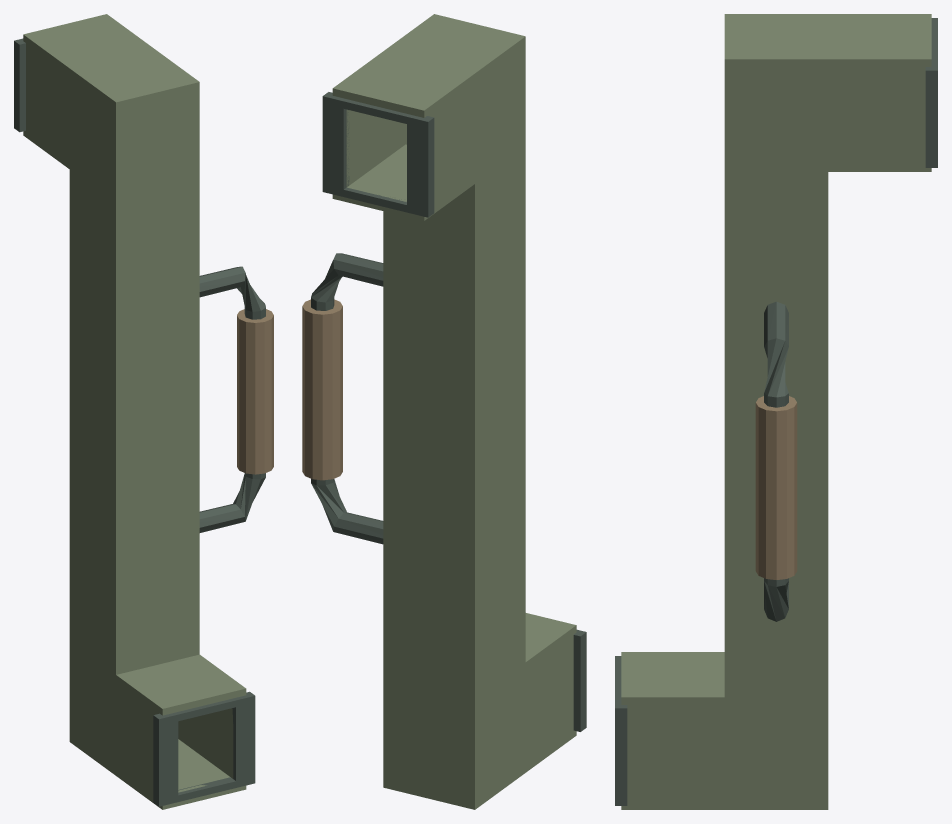
3 views of the same model, side by side, from view 1: azimuth 30°, elevation 25°; view 2: azimuth 150°, elevation 25°; view 3: azimuth 270°, elevation 25° (orthographic). The views are drawn at different scales.
Visible parts, largest first — view 1: WholeContinuousHollowOpposedOffsetCase, WholeGripSleeve, WholeLowerRearOpenRim, WholeSideCarryBow, WholeUpperForwardOpenRim; view 2: WholeContinuousHollowOpposedOffsetCase, WholeGripSleeve, WholeUpperForwardOpenRim, WholeSideCarryBow, WholeLowerRearOpenRim; view 3: WholeContinuousHollowOpposedOffsetCase, WholeGripSleeve, WholeSideCarryBow, WholeUpperForwardOpenRim, WholeLowerRearOpenRim.
Part boxes in pixels (x1,y1,x2,y2): WholeContinuousHollowOpposedOffsetCase: (23, 14, 246, 809); WholeGripSleeve: (237, 309, 273, 474); WholeLowerRearOpenRim: (153, 691, 255, 806); WholeSideCarryBow: (199, 266, 265, 532); WholeUpperForwardOpenRim: (14, 38, 25, 132); WholeContinuousHollowOpposedOffsetCase: (332, 14, 576, 809); WholeGripSleeve: (302, 299, 342, 480); WholeUpperForwardOpenRim: (322, 92, 434, 217); WholeSideCarryBow: (311, 253, 383, 544); WholeLowerRearOpenRim: (573, 629, 586, 731); WholeContinuousHollowOpposedOffsetCase: (621, 14, 931, 809); WholeGripSleeve: (755, 396, 797, 579); WholeSideCarryBow: (764, 301, 788, 621); WholeUpperForwardOpenRim: (925, 18, 937, 167); WholeLowerRearOpenRim: (615, 656, 627, 805).
Size of the model in its own units: 0.23 by 0.8 by 0.312.
